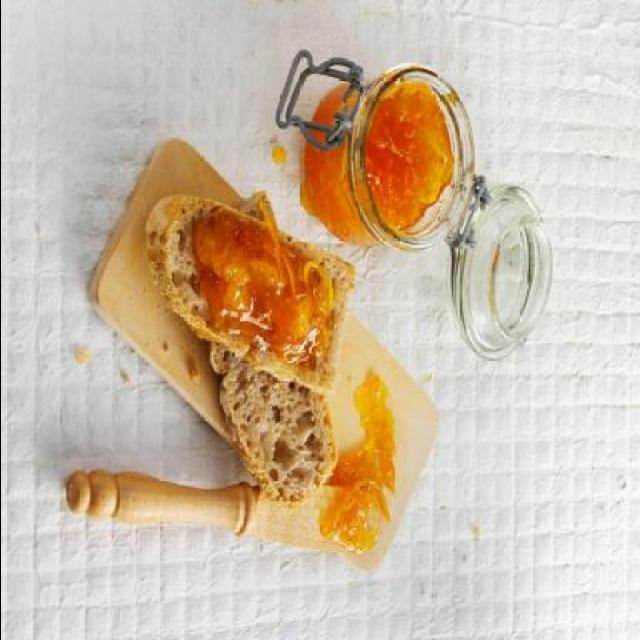Spread: (186, 220, 328, 364)
